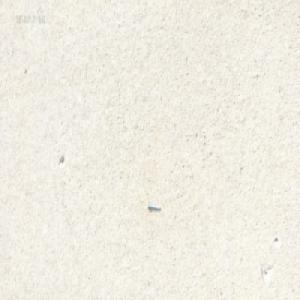Nail: (147, 201, 160, 210)
